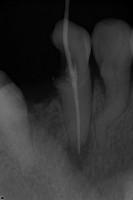Furcation Involvement: (66, 134, 91, 171)
